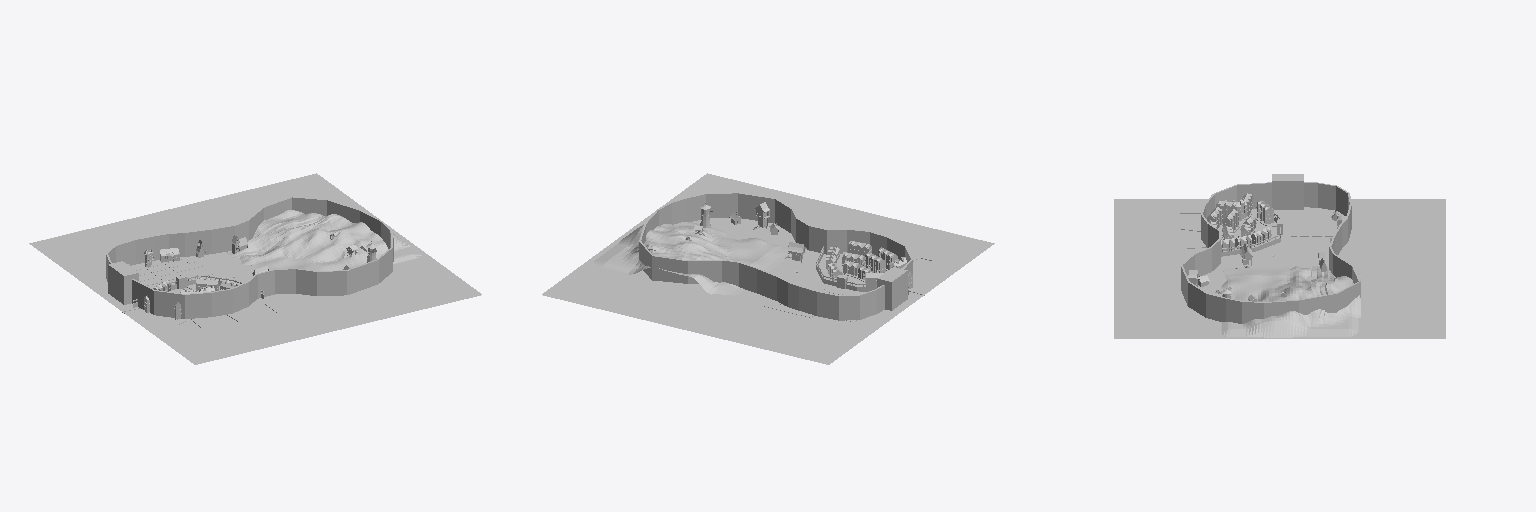
3 views of the same model, side by side, from view 1: azimuth 30°, elevation 25°; view 2: azimuth 150°, elevation 25°; view 3: azimuth 270°, elevation 25° (orthographic).
Visible parts, largest first — view 1: pPlane1, walls, mountains, planes, gate1; view 2: pPlane1, walls, mountains, gate1; view 3: pPlane1, walls, mountains, planes, gate1.
Part boxes in pixels (left/top/right/bottom): pPlane1: left=29, top=173, right=481, bottom=364; walls: left=106, top=197, right=393, bottom=318; mountains: left=227, top=210, right=421, bottom=270; planes: left=105, top=256, right=214, bottom=288; gate1: left=108, top=261, right=138, bottom=304; pPlane1: left=542, top=173, right=994, bottom=364; walls: left=639, top=192, right=912, bottom=320; mountains: left=594, top=222, right=791, bottom=295; gate1: left=877, top=267, right=907, bottom=310; pPlane1: left=1114, top=199, right=1445, bottom=338; walls: left=1181, top=182, right=1360, bottom=323; mountains: left=1221, top=266, right=1360, bottom=337; planes: left=1291, top=211, right=1357, bottom=251; gate1: left=1272, top=174, right=1303, bottom=209.
Bounding box in the file's own units: 746 × 77.87 × 746.